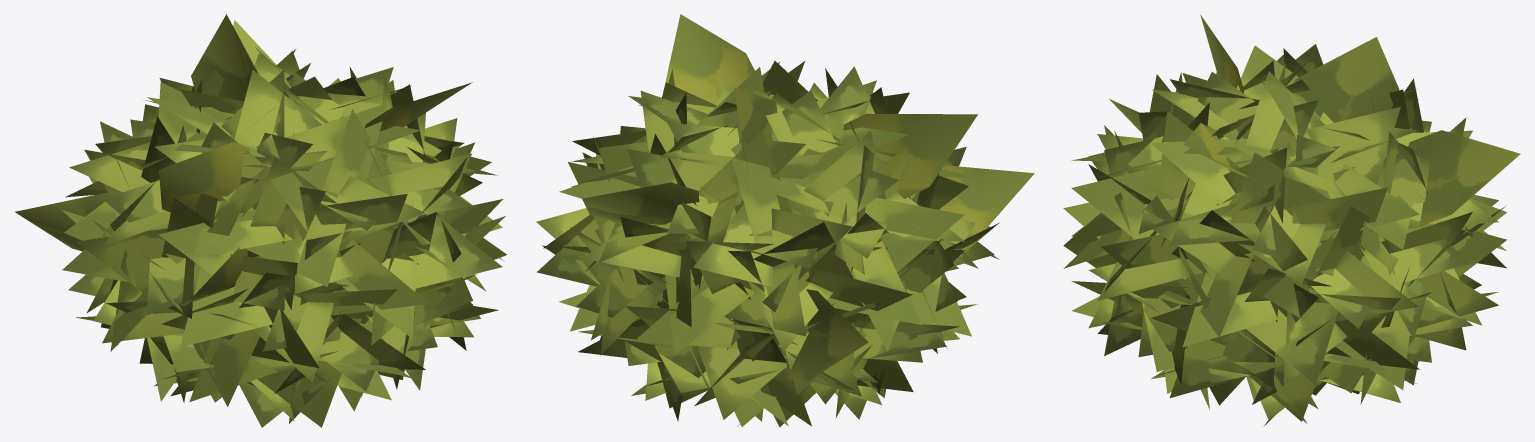
File: Raspberry_Bush_2a.glb
3 views of the same model, side by side, from view 1: azimuth 30°, elevation 25°; view 2: azimuth 150°, elevation 25°; view 3: azimuth 270°, elevation 25° (orthographic).
Visible parts, largest first — view 1: Raspberry_Bush_2a; view 2: Raspberry_Bush_2a; view 3: Raspberry_Bush_2a.
Boxes of the visible parts, x1,y1,x2,y2 form: Raspberry_Bush_2a: (15, 14, 507, 427); Raspberry_Bush_2a: (536, 14, 1034, 427); Raspberry_Bush_2a: (1063, 15, 1520, 426).
Size of the model in its own units: 1.16 by 1.01 by 1.17.
Materials: 1 (1 with a texture image).
